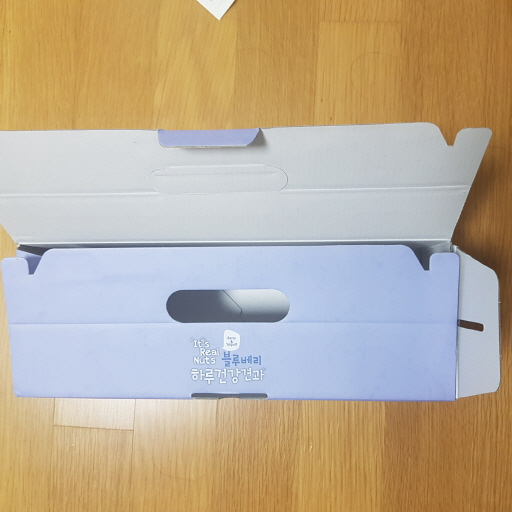Paper_0: (1, 123, 508, 417)
